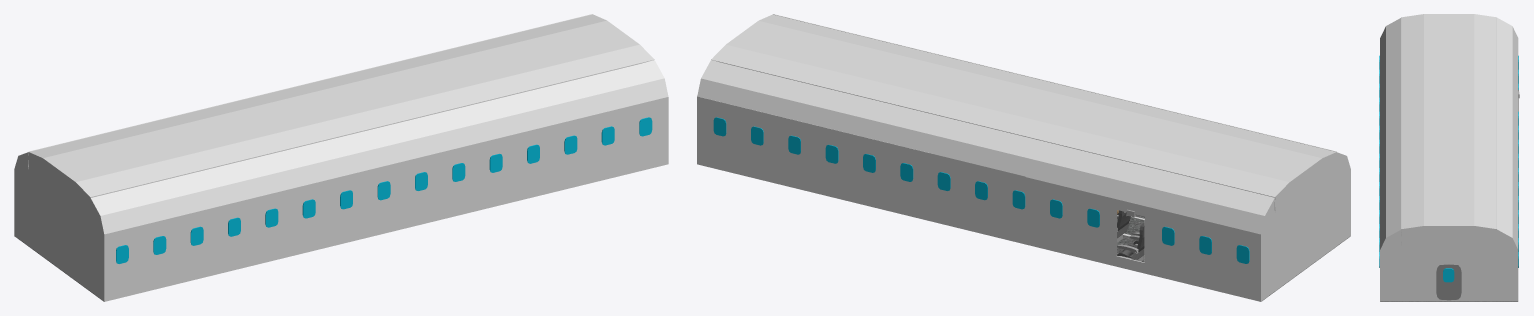
Rendered from avionadentro2.fbx.
The picture shows the model from 3 angles, left to right: view 1: azimuth 30°, elevation 25°; view 2: azimuth 150°, elevation 25°; view 3: azimuth 270°, elevation 25°; orthographic projection. The views are drawn at different scales.
Parts seen in each view (by area): view 1: cuerpo.002, cuerpo, cuerpo.006, ventanas, cuerpo.008, cuerpo.007; view 2: cuerpo.002, cuerpo, cuerpo.006, ventanas, cuerpo.007, pantalla, cuerpo.008; view 3: cuerpo.002, cuerpo.005, puerta, cuerpo, ventanas, cuerpo.008, cuerpo.007.
Part boxes in pixels (box(x1,y1,x2,y2)): cuerpo.002: box(29, 14, 668, 234); cuerpo: box(14, 97, 668, 301); cuerpo.006: box(14, 153, 103, 300); ventanas: box(116, 117, 652, 263); cuerpo.008: box(90, 59, 654, 197); cuerpo.007: box(28, 14, 592, 178); cuerpo.002: box(697, 14, 1335, 234); cuerpo: box(697, 97, 1350, 301); cuerpo.006: box(1261, 152, 1350, 300); ventanas: box(713, 117, 1249, 263); cuerpo.007: box(711, 59, 1275, 224); pantalla: box(1117, 210, 1144, 261); cuerpo.008: box(773, 14, 1336, 151); cuerpo.002: box(1380, 14, 1518, 249); cuerpo.005: box(1380, 226, 1517, 301); puerta: box(1436, 264, 1461, 300); cuerpo: box(1380, 90, 1518, 301); ventanas: box(1379, 55, 1518, 267); cuerpo.008: box(1400, 17, 1401, 249); cuerpo.007: box(1496, 17, 1496, 229).
Size of the model in its own units: 10386 by 1736 by 2895.
42 materials, 11 textured.
